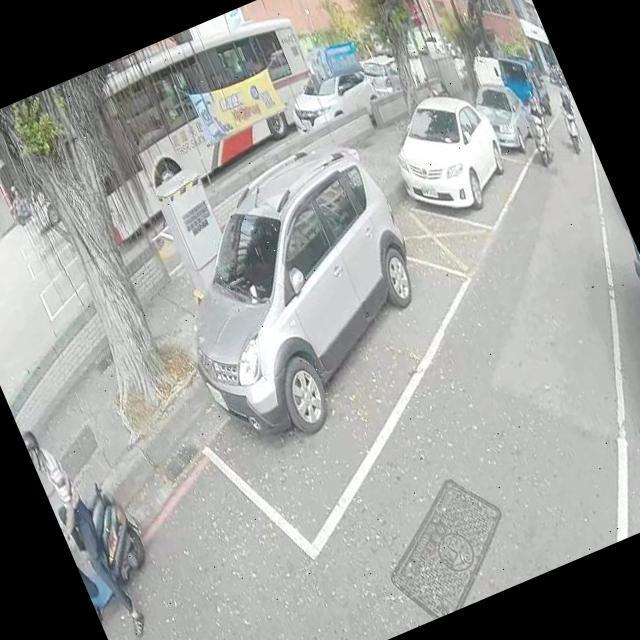person: (18, 412, 151, 640), (518, 89, 558, 153), (554, 86, 579, 125), (3, 182, 26, 217)
